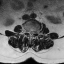CCS_stenosis: (30, 29, 32, 37)
LFS_stenosis: (34, 29, 36, 35)
LLS_normal: (32, 29, 34, 36)
RFS_normal: (26, 28, 28, 34)
RLS_normal: (28, 29, 30, 36)
